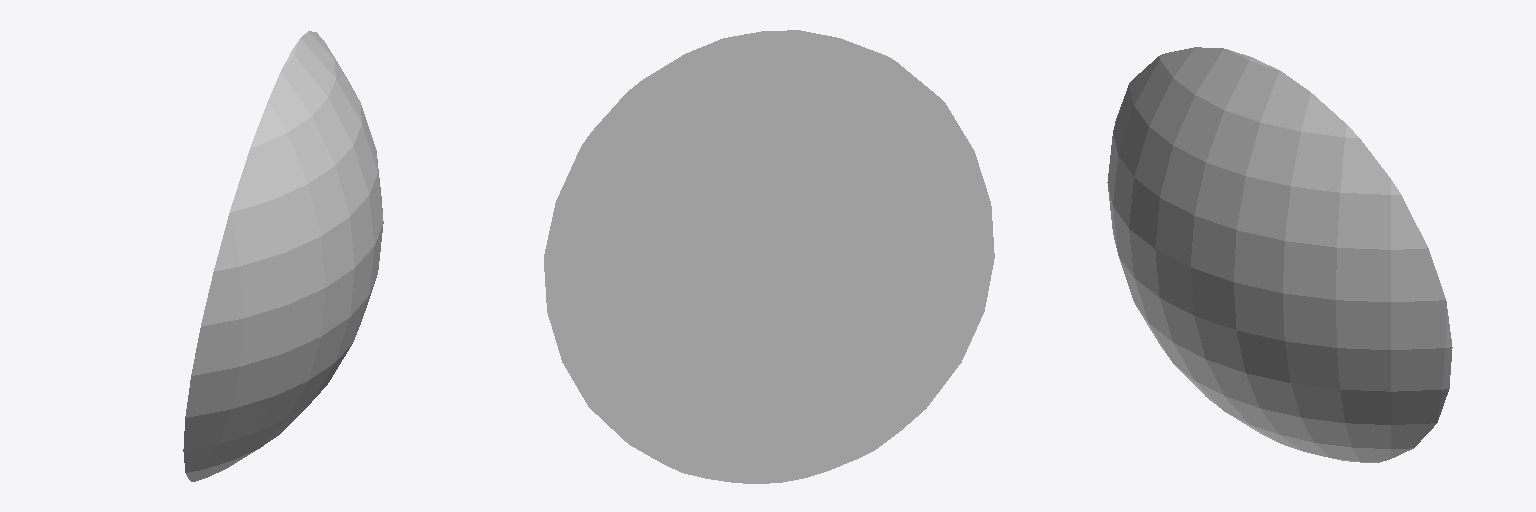
Rendered from vrag2Third3.obj.
3 views of the same model, side by side, from view 1: azimuth 30°, elevation 25°; view 2: azimuth 150°, elevation 25°; view 3: azimuth 270°, elevation 25° (orthographic).
Parts seen in each view (by area): view 1: Sphere; view 2: Sphere; view 3: Sphere.
Part boxes in pixels (x1,y1,x2,y2): Sphere: (183, 31, 383, 481); Sphere: (544, 30, 994, 483); Sphere: (1107, 47, 1452, 462).
Size of the model in its own units: 0.5934 by 0.813 by 0.608.